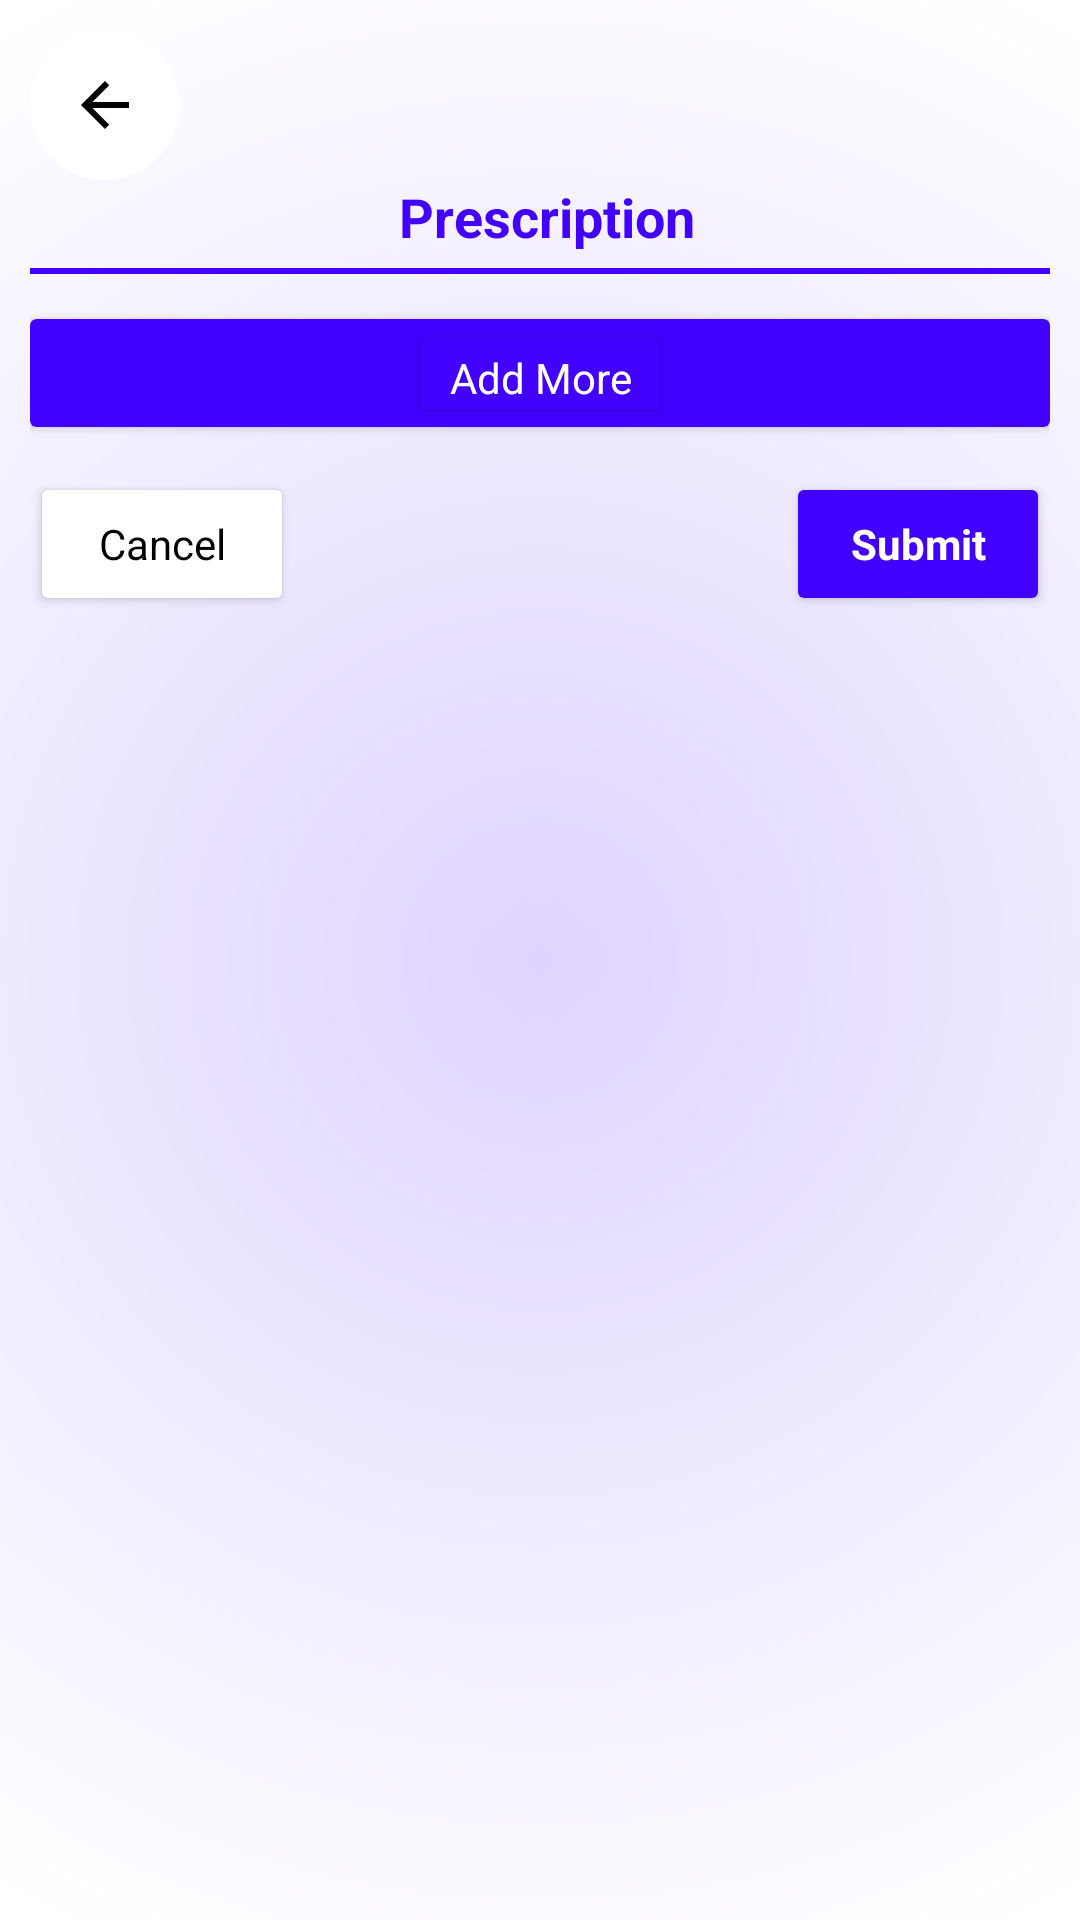

Screen size 1080w x 1920h. Icon name, then its center in pixels as (x,y):
go back: (105,105)
